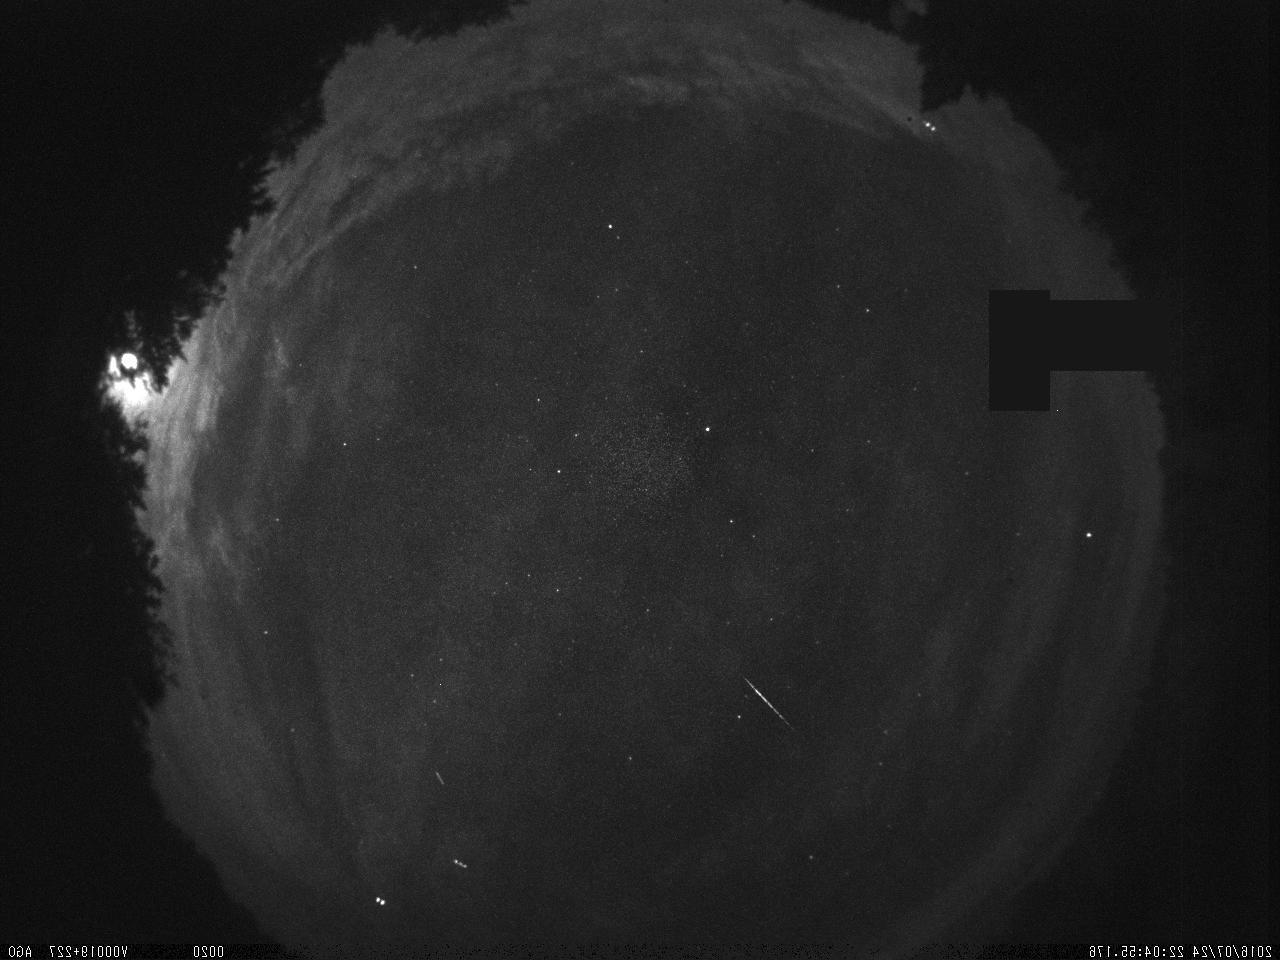meteor: (736, 670, 803, 732)
satelite: (449, 850, 471, 878), (370, 890, 389, 909)
